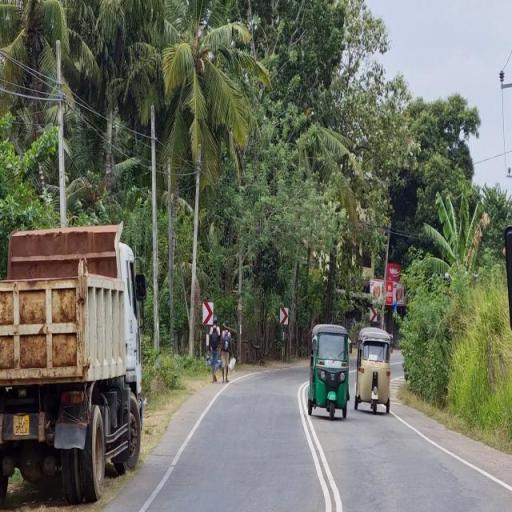double_white_line: (298, 376, 342, 512)
